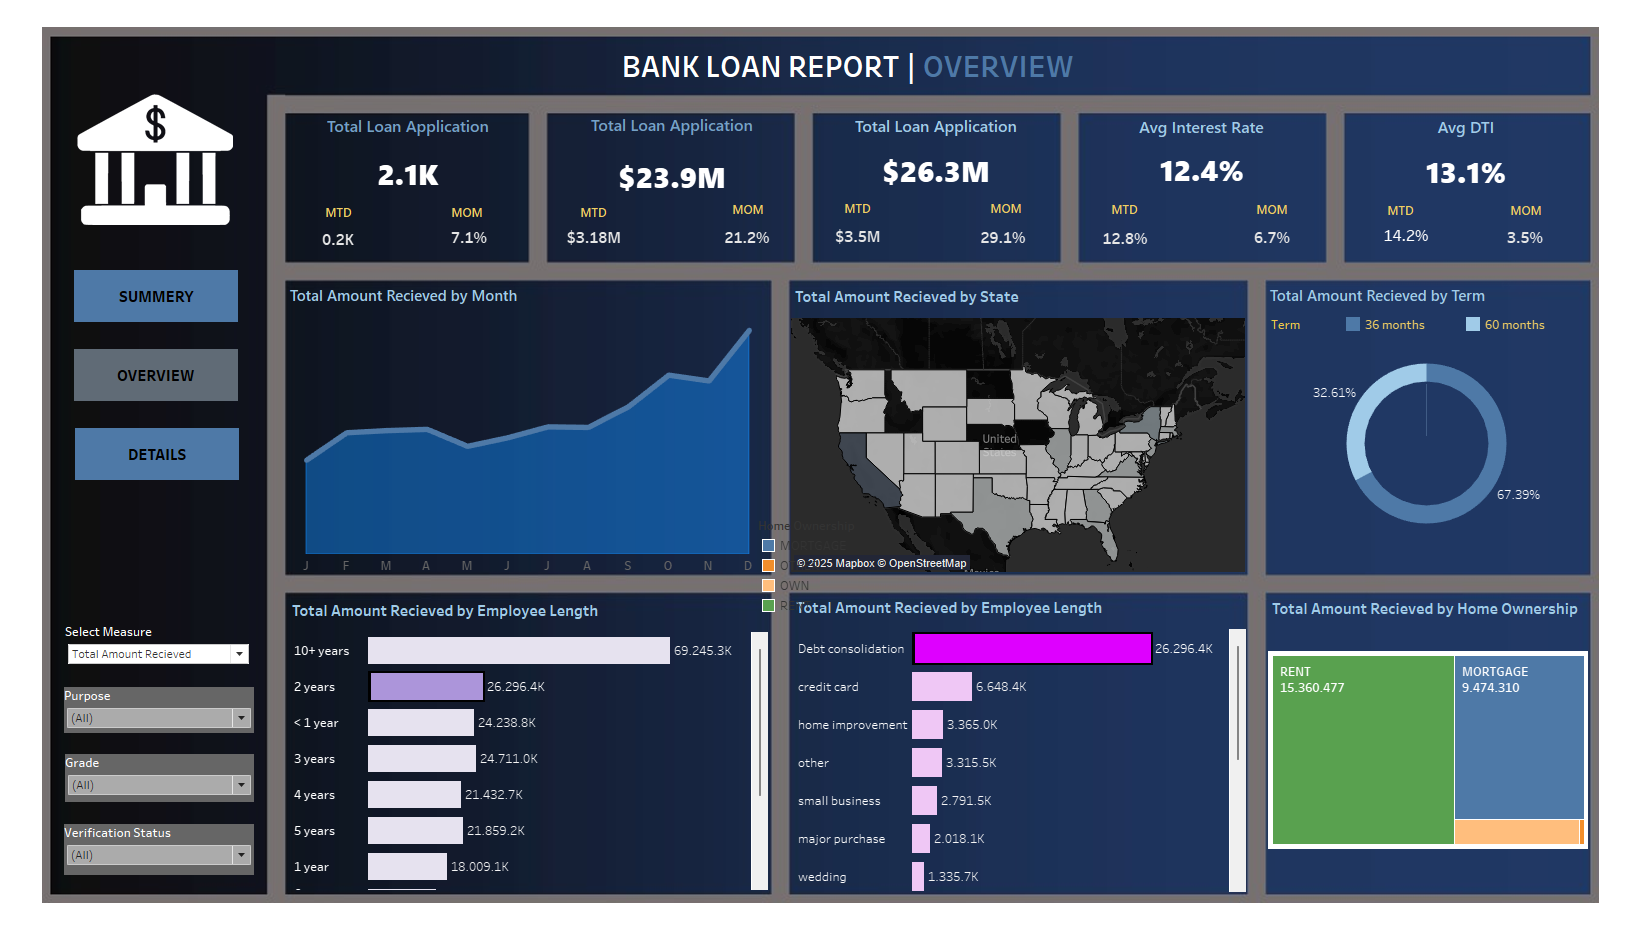

The dashboard page shown, as its layout file describes it:
{"tool":"tableau","page":{"name":"OVERVIEW","canvas":[1600,900],"ordinal":1},"visuals":[{"type":"image","param":"H:/Project/Data Analyst/Tableau/Tableau Background 2.jpg","box":[8,8,1584,884]},{"type":"text","box":[598,30,461,40]},{"type":"image","param":"C:/Users/MDMONI~1/AppData/Local/Temp/TableauTemp/1msafvm1m991k815xhiqw1b3gqvc/Sh","box":[56,79,156,220]},{"type":"worksheet","title":"Total Funded Amount","mark":"Automatic","box":[530,95,242,94]},{"type":"worksheet","title":"Total Loan Application","mark":"Automatic","box":[265,96,244,86]},{"type":"worksheet","title":"Total Amount Recieved","mark":"Automatic","box":[792,96,246,81]},{"type":"worksheet","title":"Avg Interest Rate","mark":"Automatic","box":[1058,97,245,77]},{"type":"worksheet","title":"Avg DTI","mark":"Automatic","box":[1323,97,244,80]},{"type":"text","box":[803,178,67,30]},{"type":"text","box":[935,178,100,30]},{"type":"text","box":[677,179,100,30]},{"type":"text","box":[1070,179,67,30]},{"type":"text","box":[1201,179,100,30]},{"type":"text","box":[1346,180,67,30]},{"type":"text","box":[1455,180,100,30]},{"type":"text","box":[284,182,67,30]},{"type":"text","box":[396,182,100,30]},{"type":"text","box":[539,182,67,30]},{"type":"worksheet","title":"MTD Avg DTI","mark":"Automatic","box":[1338,200,94,40]},{"type":"worksheet","title":"MTD Total Funded Amount","mark":"Automatic","box":[532,201,81,42]},{"type":"worksheet","title":"MoM Total Funded Amount","mark":"Automatic","box":[680,201,91,41]},{"type":"worksheet","title":"MTD Total Amount Recieved","mark":"Automatic","box":[796,201,81,40]},{"type":"worksheet","title":"MoM Total Loan Applications","mark":"Automatic","box":[413,203,70,38]},{"type":"worksheet","title":"MoM Avg INT Rate","mark":"Automatic","box":[1202,203,97,38]},{"type":"worksheet","title":"MTD Total Loan Applications","mark":"Automatic","box":[281,204,72,39]},{"type":"worksheet","title":"MoM Avg DTI","mark":"Automatic","box":[1457,204,93,36]},{"type":"worksheet","title":"MoM Total Amount Recieved","mark":"Automatic","box":[934,205,96,33]},{"type":"worksheet","title":"MTD Avg INT Rate","mark":"Automatic","box":[1056,205,95,36]},{"type":"dashboard-object","box":[53,255,164,52]},{"type":"worksheet","title":"Month","mark":"Area","rows":["Calculation_1322088018501107732","Calculation_1322088018501107732"],"cols":["issue_date"],"box":[265,266,483,294]},{"type":"worksheet","title":"Term","mark":"Pie","rows":["Calculation_1164462031553314817","Calculation_1164462031553314817"],"box":[1245,266,321,290]},{"type":"worksheet","title":"State","mark":"Automatic","box":[770,267,454,290]},{"type":"legend","title":"Term","param":"[federated.1yh2q4d1p6eods1fdrs3f1kuyx0a].[none:term:nk]","box":[1250,299,317,29]},{"type":"dashboard-object","box":[53,334,164,52]},{"type":"dashboard-object","box":[54,413,164,52]},{"type":"legend","title":"Home Ownership","param":"[federated.1yh2q4d1p6eods1fdrs3f1kuyx0a].[none:home_ownership:nk]","box":[737,502,140,118]},{"type":"worksheet","title":"Purpose","mark":"Automatic","rows":["purpose"],"cols":["Calculation_1322088018501107732"],"box":[771,578,454,299]},{"type":"worksheet","title":"Home Ownership","mark":"Automatic","box":[1247,579,320,299]},{"type":"worksheet","title":"Emp Length","mark":"Automatic","rows":["emp_length"],"cols":["Calculation_1322088018501107732"],"box":[267,581,480,294]},{"type":"parameter","param":"[Parameters].[Parameter 1]","box":[44,608,187,44]},{"type":"filter","title":"Avg DTI","param":"[federated.1yh2q4d1p6eods1fdrs3f1kuyx0a].[none:purpose:nk]","box":[43,672,190,46]},{"type":"filter","title":"Avg DTI","param":"[federated.1yh2q4d1p6eods1fdrs3f1kuyx0a].[none:grade:nk]","box":[44,739,189,48]},{"type":"filter","title":"Avg DTI","param":"[federated.1yh2q4d1p6eods1fdrs3f1kuyx0a].[none:verification_status:nk]","box":[43,809,190,51]}]}

Visuals, with their boxes in screenshot pixels (x1, y1, x2, y2), scaled from the page's 1600x900 canvas onto the 1639x937 screenshot:
image: select_region(8, 8, 1631, 929)
text: select_region(613, 31, 1085, 73)
image: select_region(57, 82, 217, 311)
"Total Funded Amount" worksheet: select_region(543, 99, 791, 197)
"Total Loan Application" worksheet: select_region(271, 100, 521, 189)
"Total Amount Recieved" worksheet: select_region(811, 100, 1063, 184)
"Avg Interest Rate" worksheet: select_region(1084, 101, 1335, 181)
"Avg DTI" worksheet: select_region(1355, 101, 1605, 184)
text: select_region(823, 185, 891, 217)
text: select_region(958, 185, 1060, 217)
text: select_region(694, 186, 796, 218)
text: select_region(1096, 186, 1165, 218)
text: select_region(1230, 186, 1333, 218)
text: select_region(1379, 187, 1447, 219)
text: select_region(1490, 187, 1593, 219)
text: select_region(291, 189, 360, 221)
text: select_region(406, 189, 508, 221)
text: select_region(552, 189, 621, 221)
"MTD Avg DTI" worksheet: select_region(1371, 208, 1467, 250)
"MTD Total Funded Amount" worksheet: select_region(545, 209, 628, 253)
"MoM Total Funded Amount" worksheet: select_region(697, 209, 790, 252)
"MTD Total Amount Recieved" worksheet: select_region(815, 209, 898, 251)
"MoM Total Loan Applications" worksheet: select_region(423, 211, 495, 251)
"MoM Avg INT Rate" worksheet: select_region(1231, 211, 1331, 251)
"MTD Total Loan Applications" worksheet: select_region(288, 212, 362, 253)
"MoM Avg DTI" worksheet: select_region(1493, 212, 1588, 250)
"MoM Total Amount Recieved" worksheet: select_region(957, 213, 1055, 248)
"MTD Avg INT Rate" worksheet: select_region(1082, 213, 1179, 251)
dashboard-object: select_region(54, 265, 222, 320)
"Month" worksheet (Area marks): select_region(271, 277, 766, 583)
"Term" worksheet (Pie marks): select_region(1275, 277, 1604, 579)
"State" worksheet: select_region(789, 278, 1254, 580)
"Term" legend: select_region(1280, 311, 1605, 341)
dashboard-object: select_region(54, 348, 222, 402)
dashboard-object: select_region(55, 430, 223, 484)
"Home Ownership" legend: select_region(755, 523, 898, 645)
"Purpose" worksheet: select_region(790, 602, 1255, 913)
"Home Ownership" worksheet: select_region(1277, 603, 1605, 914)
"Emp Length" worksheet: select_region(274, 605, 765, 911)
parameter: select_region(45, 633, 237, 679)
"Avg DTI" filter: select_region(44, 700, 239, 748)
"Avg DTI" filter: select_region(45, 769, 239, 819)
"Avg DTI" filter: select_region(44, 842, 239, 895)
